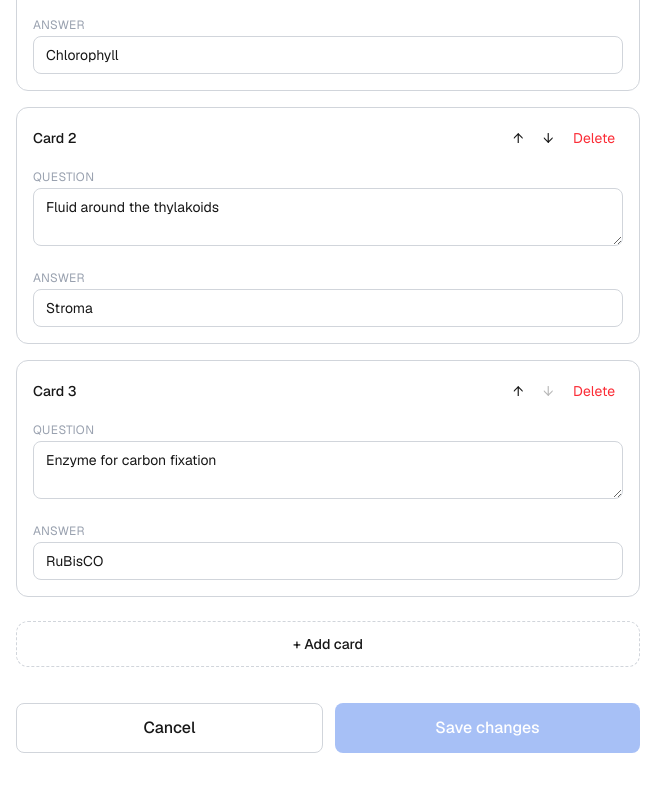
Test: CardEditor: flashcards › points at the card with a problem and does not save
The image size is (657, 789).
(page scrolled)
Click the button "+ Add card".
click(328, 644)  # box 16,621 -> 640,667
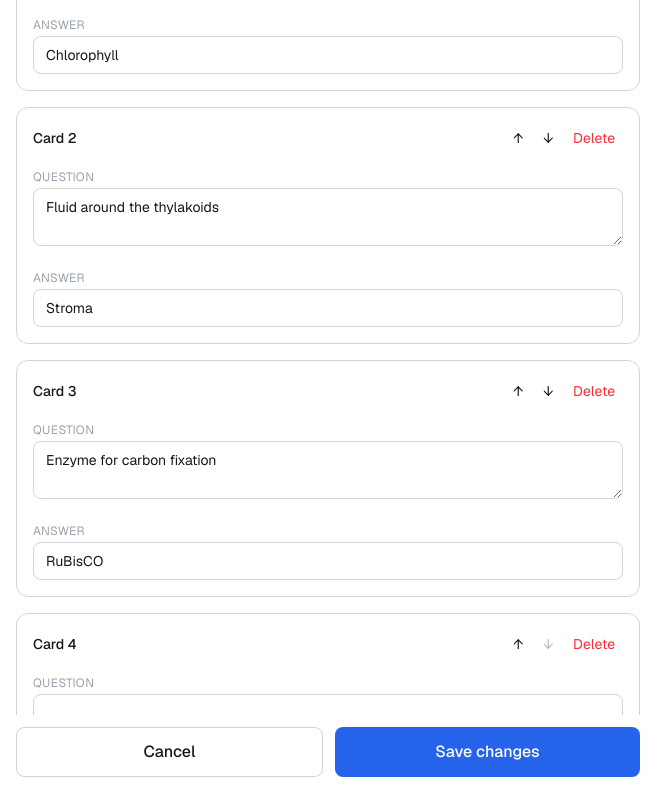
Click the button "Save changes".
click(488, 752)  # box 335,727 -> 640,777
(page scrolled)
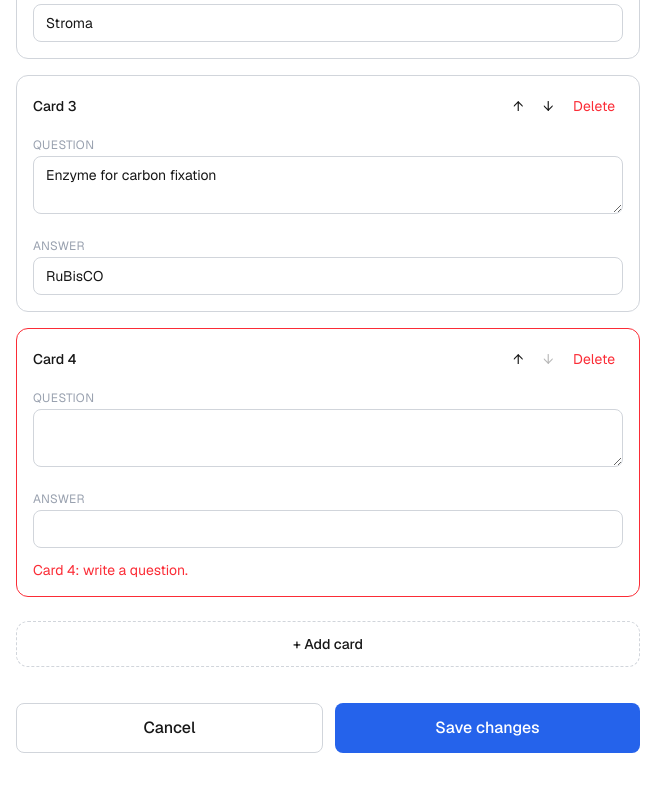
Result: the message reads "Card 4: write a question." at 33,561 -> 188,579
